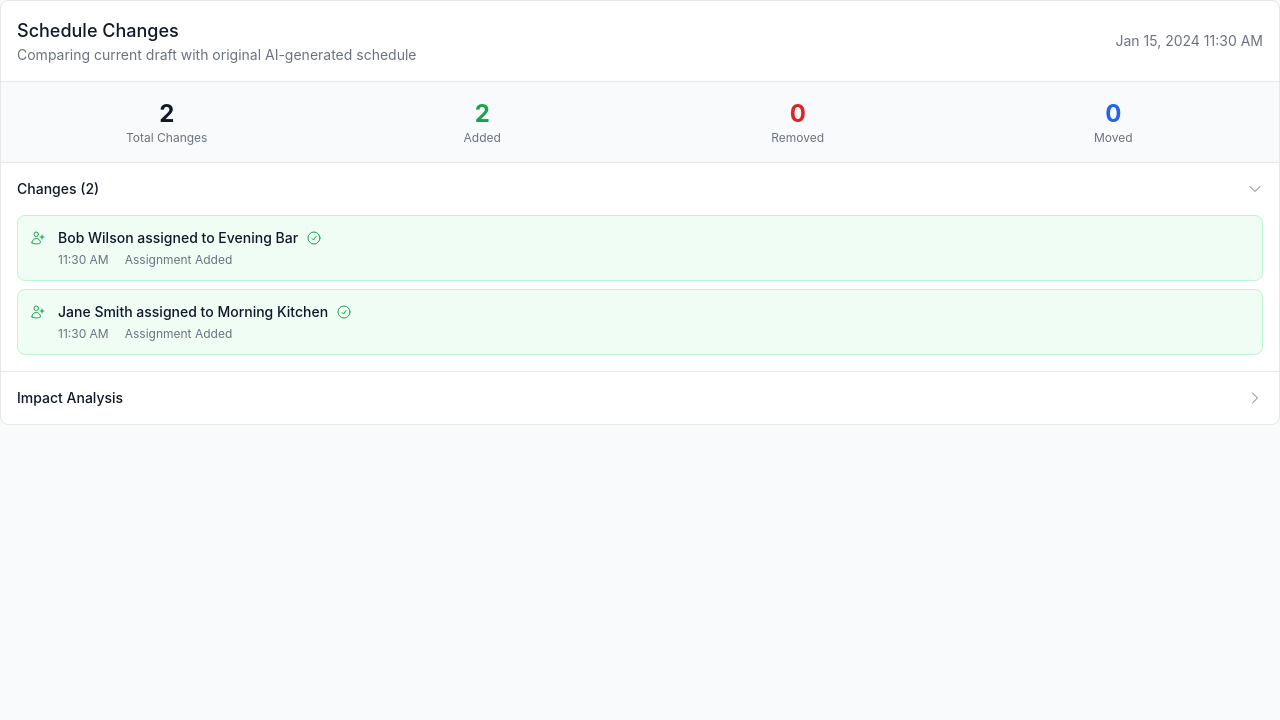
Test: DraftComparisonView › should expand and collapse impact analysis section
Expected: the text "Coverage Impact" is not shown
Note: Click to expand
Click the button "Impact Analysis": (70, 398) [17,388,1263,408]
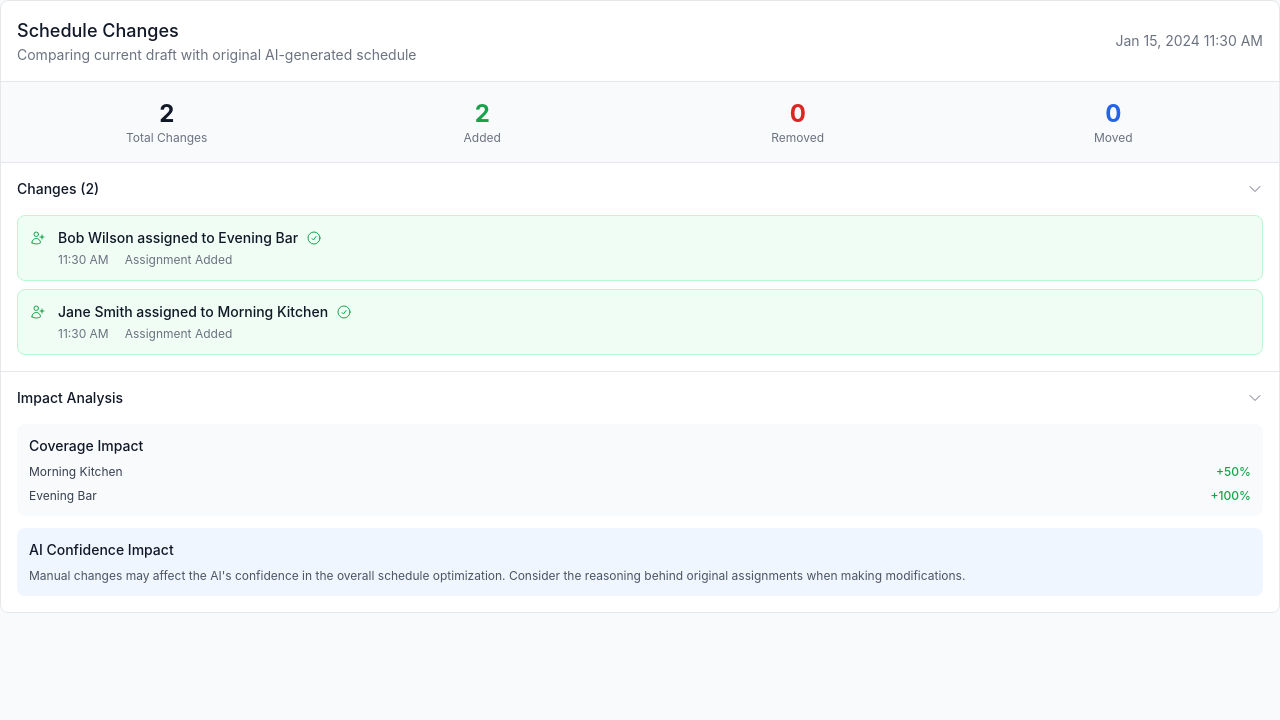
Result: the heading "Coverage Impact" is shown at [29,437,143,454]
Result: the heading "AI Confidence Impact" is shown at [29,541,174,558]
